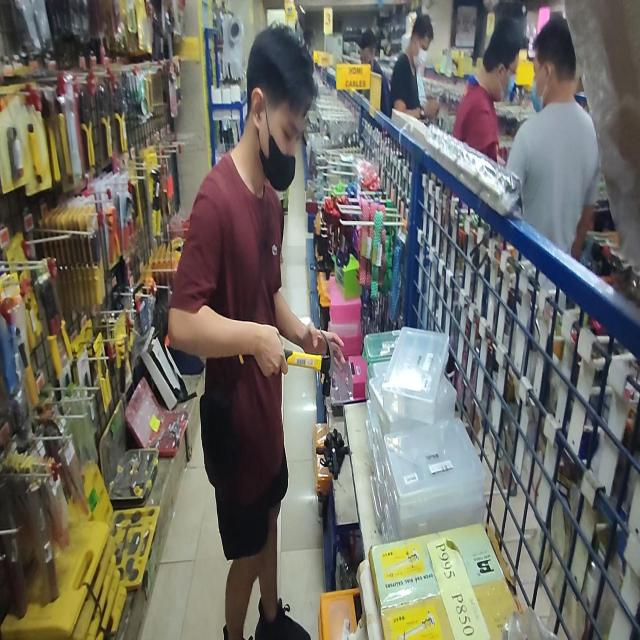hammer: (238, 324, 332, 400)
